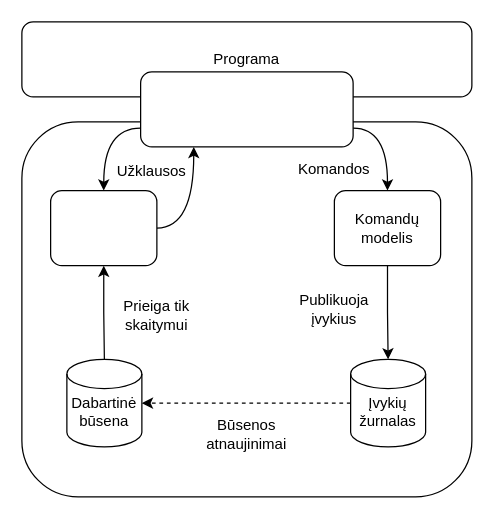
The diagram is 494 pixels wide and 519 high, and some of its shapes have lost their labels. The shapes that lost their labels are listed below. From the top down, each one's centre as x and y in pixels, then its label:
At [246,109]: "CQRS programos sąsaja".
At [103,227]: "Užklausų modelis".
